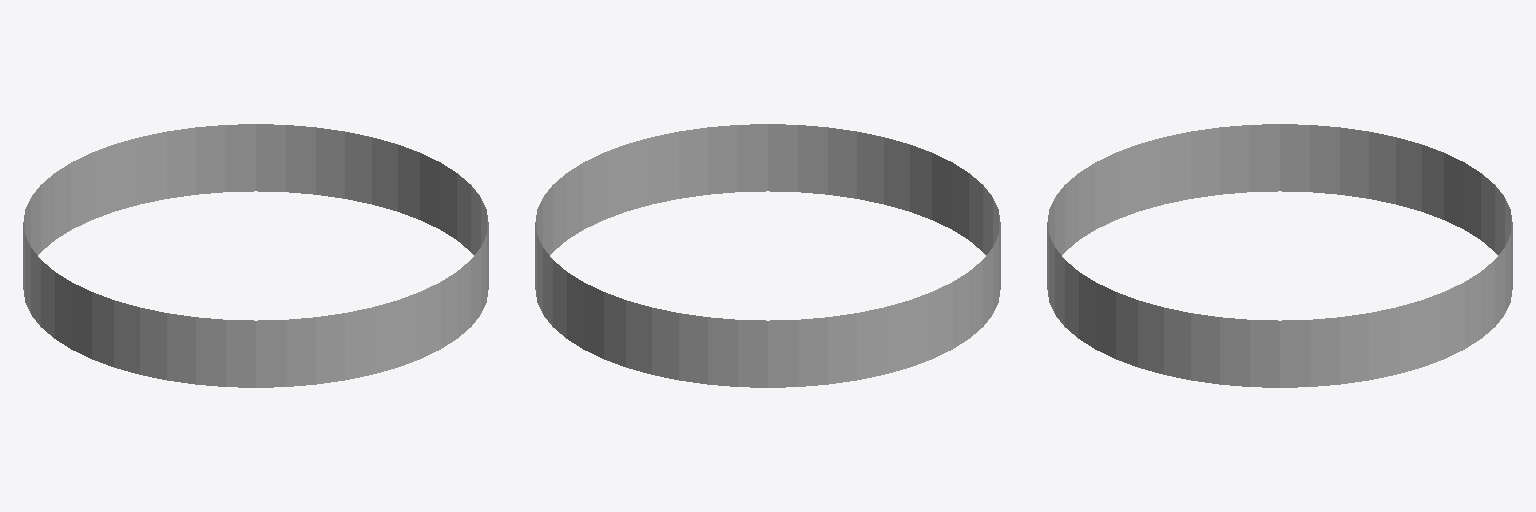
File: ring.obj
3 views of the same model, side by side, from view 1: azimuth 30°, elevation 25°; view 2: azimuth 150°, elevation 25°; view 3: azimuth 270°, elevation 25° (orthographic).
Parts seen in each view (by area): view 1: Cylinder_Cylinder.002; view 2: Cylinder_Cylinder.002; view 3: Cylinder_Cylinder.002.
Boxes of the visible parts, box(x1,y1,x2,y2) form: Cylinder_Cylinder.002: box(23, 124, 488, 387); Cylinder_Cylinder.002: box(535, 124, 1000, 387); Cylinder_Cylinder.002: box(1047, 124, 1512, 387).
Size of the model in its own units: 0.16 by 0.0256 by 0.16.